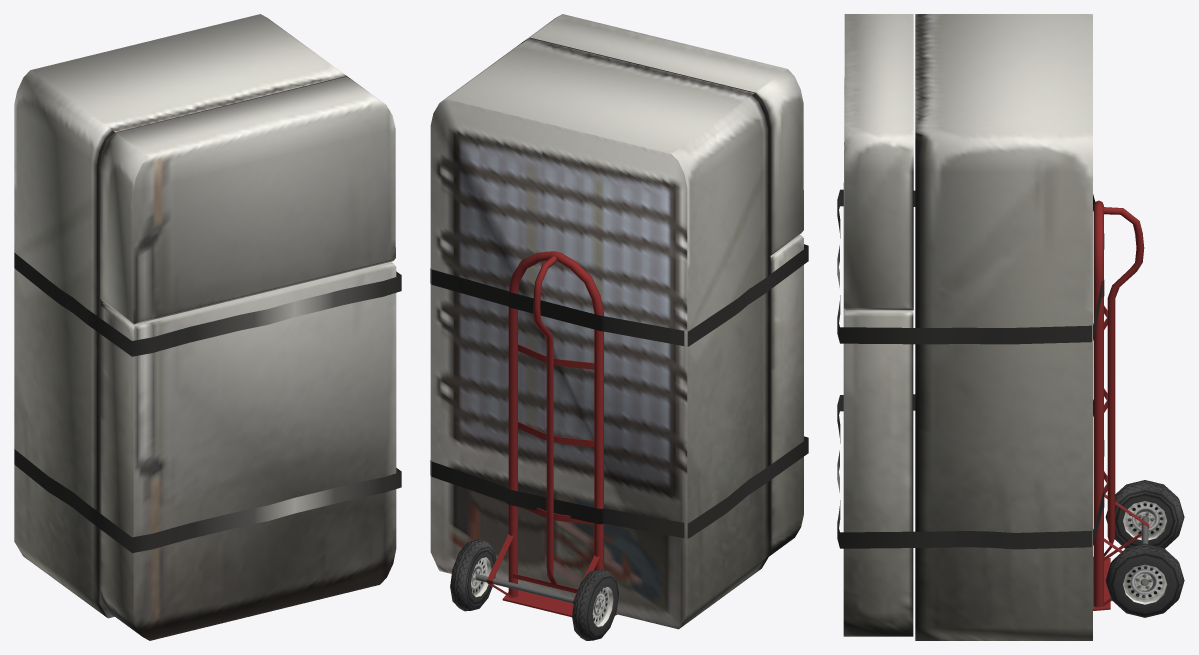
File: PA_Fridge1w.fbx
The picture shows the model from 3 angles, left to right: view 1: azimuth 30°, elevation 25°; view 2: azimuth 150°, elevation 25°; view 3: azimuth 270°, elevation 25°; orthographic projection. The views are drawn at different scales.
Visible parts, largest first — view 1: Handtruck_bottom; view 2: Handtruck_bottom; view 3: Handtruck_bottom.
Boxes of the visible parts, left/top/right/bottom form: Handtruck_bottom: left=14, top=14, right=401, bottom=640; Handtruck_bottom: left=430, top=14, right=808, bottom=640; Handtruck_bottom: left=837, top=14, right=1184, bottom=640.
Bounding box in the file's own units: 0.6174 × 1.07 × 0.6557.
